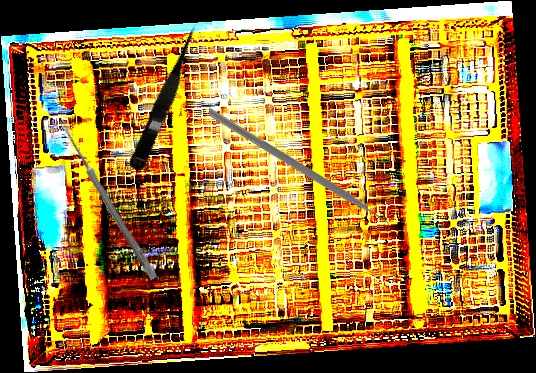Chopper: (209, 107, 390, 243)
Micro Scissor: (126, 21, 208, 175)
Surgical Spoon: (56, 118, 159, 281)
